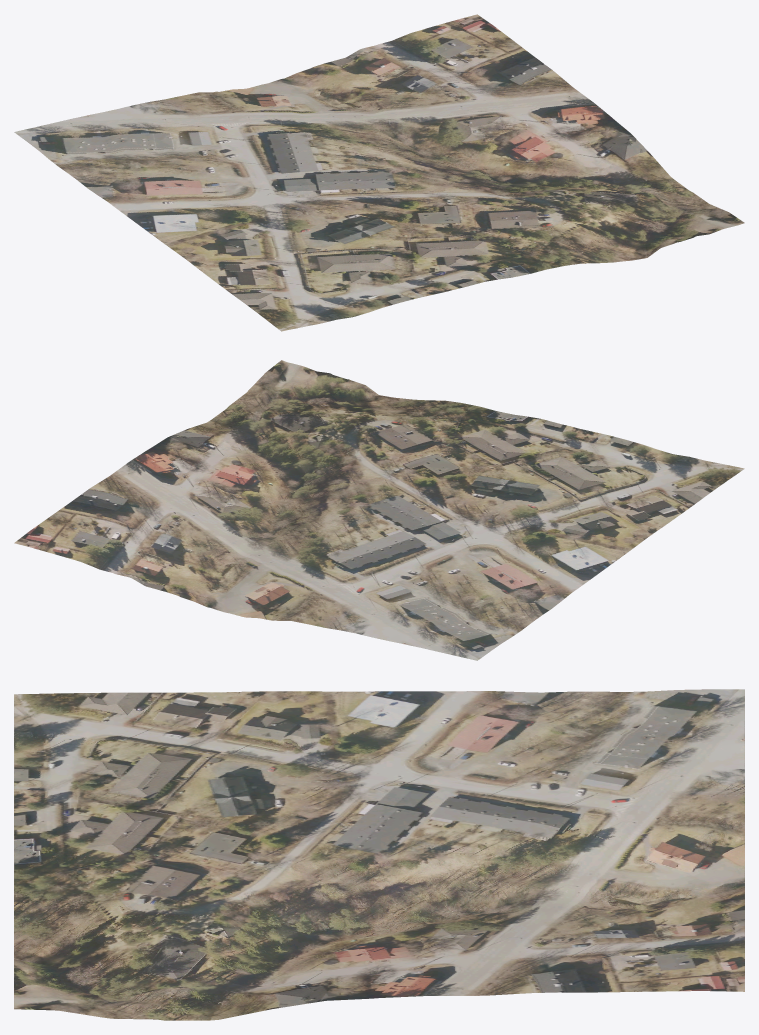
The model's file is CM_Terrain_24491073_6820613.fbx.
3 renders of one model, top to bottom at view 1: azimuth 30°, elevation 25°; view 2: azimuth 150°, elevation 25°; view 3: azimuth 270°, elevation 25°, orthographic. The views are drawn at different scales.
Visible parts, largest first — view 1: CM_Terrain_24491073_6820613_LOD0; view 2: CM_Terrain_24491073_6820613_LOD0; view 3: CM_Terrain_24491073_6820613_LOD0.
Boxes of the visible parts, x1,y1,x2,y2 form: CM_Terrain_24491073_6820613_LOD0: [14, 14, 744, 331]; CM_Terrain_24491073_6820613_LOD0: [14, 360, 744, 660]; CM_Terrain_24491073_6820613_LOD0: [14, 689, 744, 1020].
Size of what is drawn, in the model's own units: 205 by 10.37 by 205.
